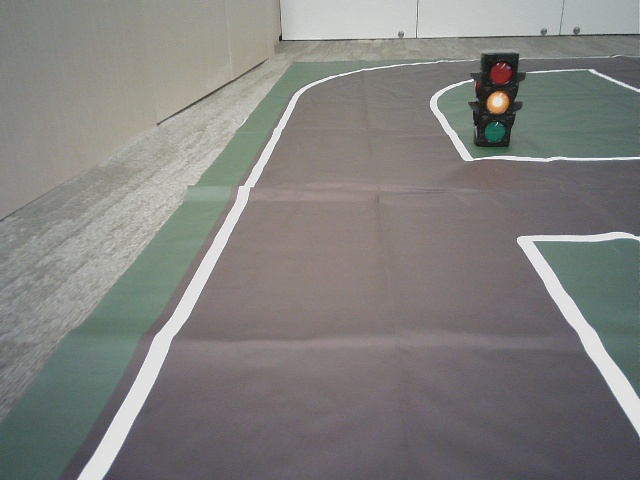yellow: (480, 56, 511, 145)
